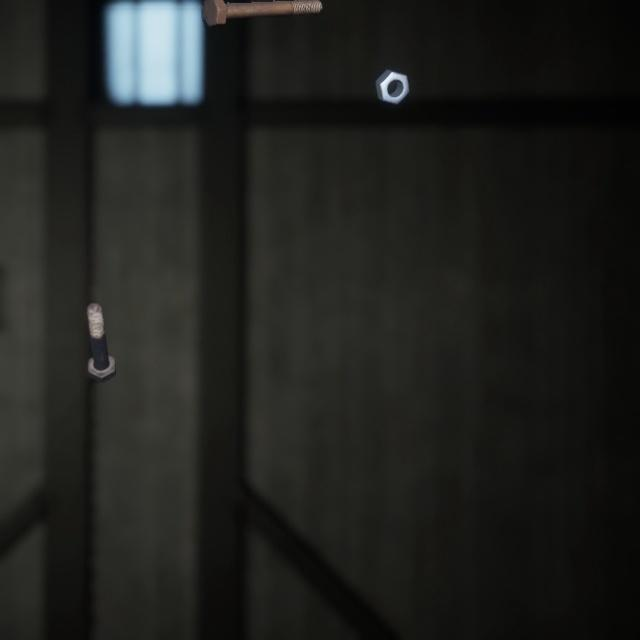bolt: (82, 279, 120, 369), (198, 0, 326, 23)
nut: (370, 54, 414, 98)
